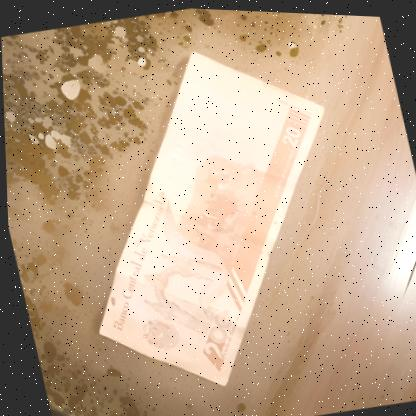twenty-back-vef: (37, 21, 382, 411)
